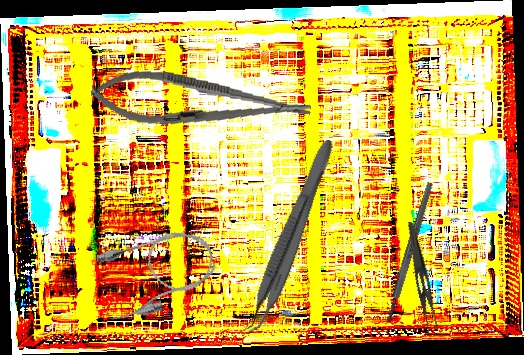Cannula: (89, 220, 224, 327)
Dressing Forceps: (394, 221, 446, 338)
Needle Holder: (89, 65, 313, 139)
Scalpel Handle: (383, 181, 436, 324)
Tissue Forceps: (238, 133, 338, 343)
